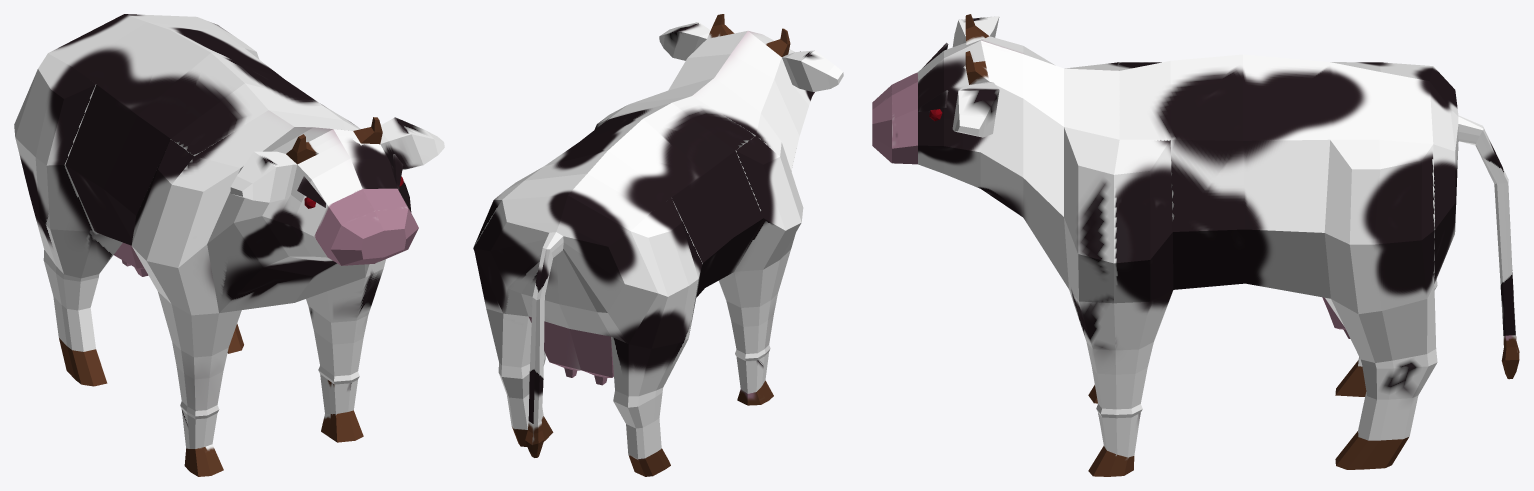
File: soc_cow_base_again.fbx
3 views of the same model, side by side, from view 1: azimuth 30°, elevation 25°; view 2: azimuth 150°, elevation 25°; view 3: azimuth 270°, elevation 25° (orthographic). The views are drawn at different scales.
Visible parts, largest first — view 1: Cylinder, Plane; view 2: Cylinder; view 3: Cylinder.
Part boxes in pixels (x1,y1,x2,y2): Cylinder: (14, 14, 444, 476); Plane: (297, 154, 403, 207); Cylinder: (473, 14, 843, 476); Cylinder: (872, 14, 1519, 476).
Bounding box in the file's own units: 248 × 355 × 520.
3 materials, 3 textured.
